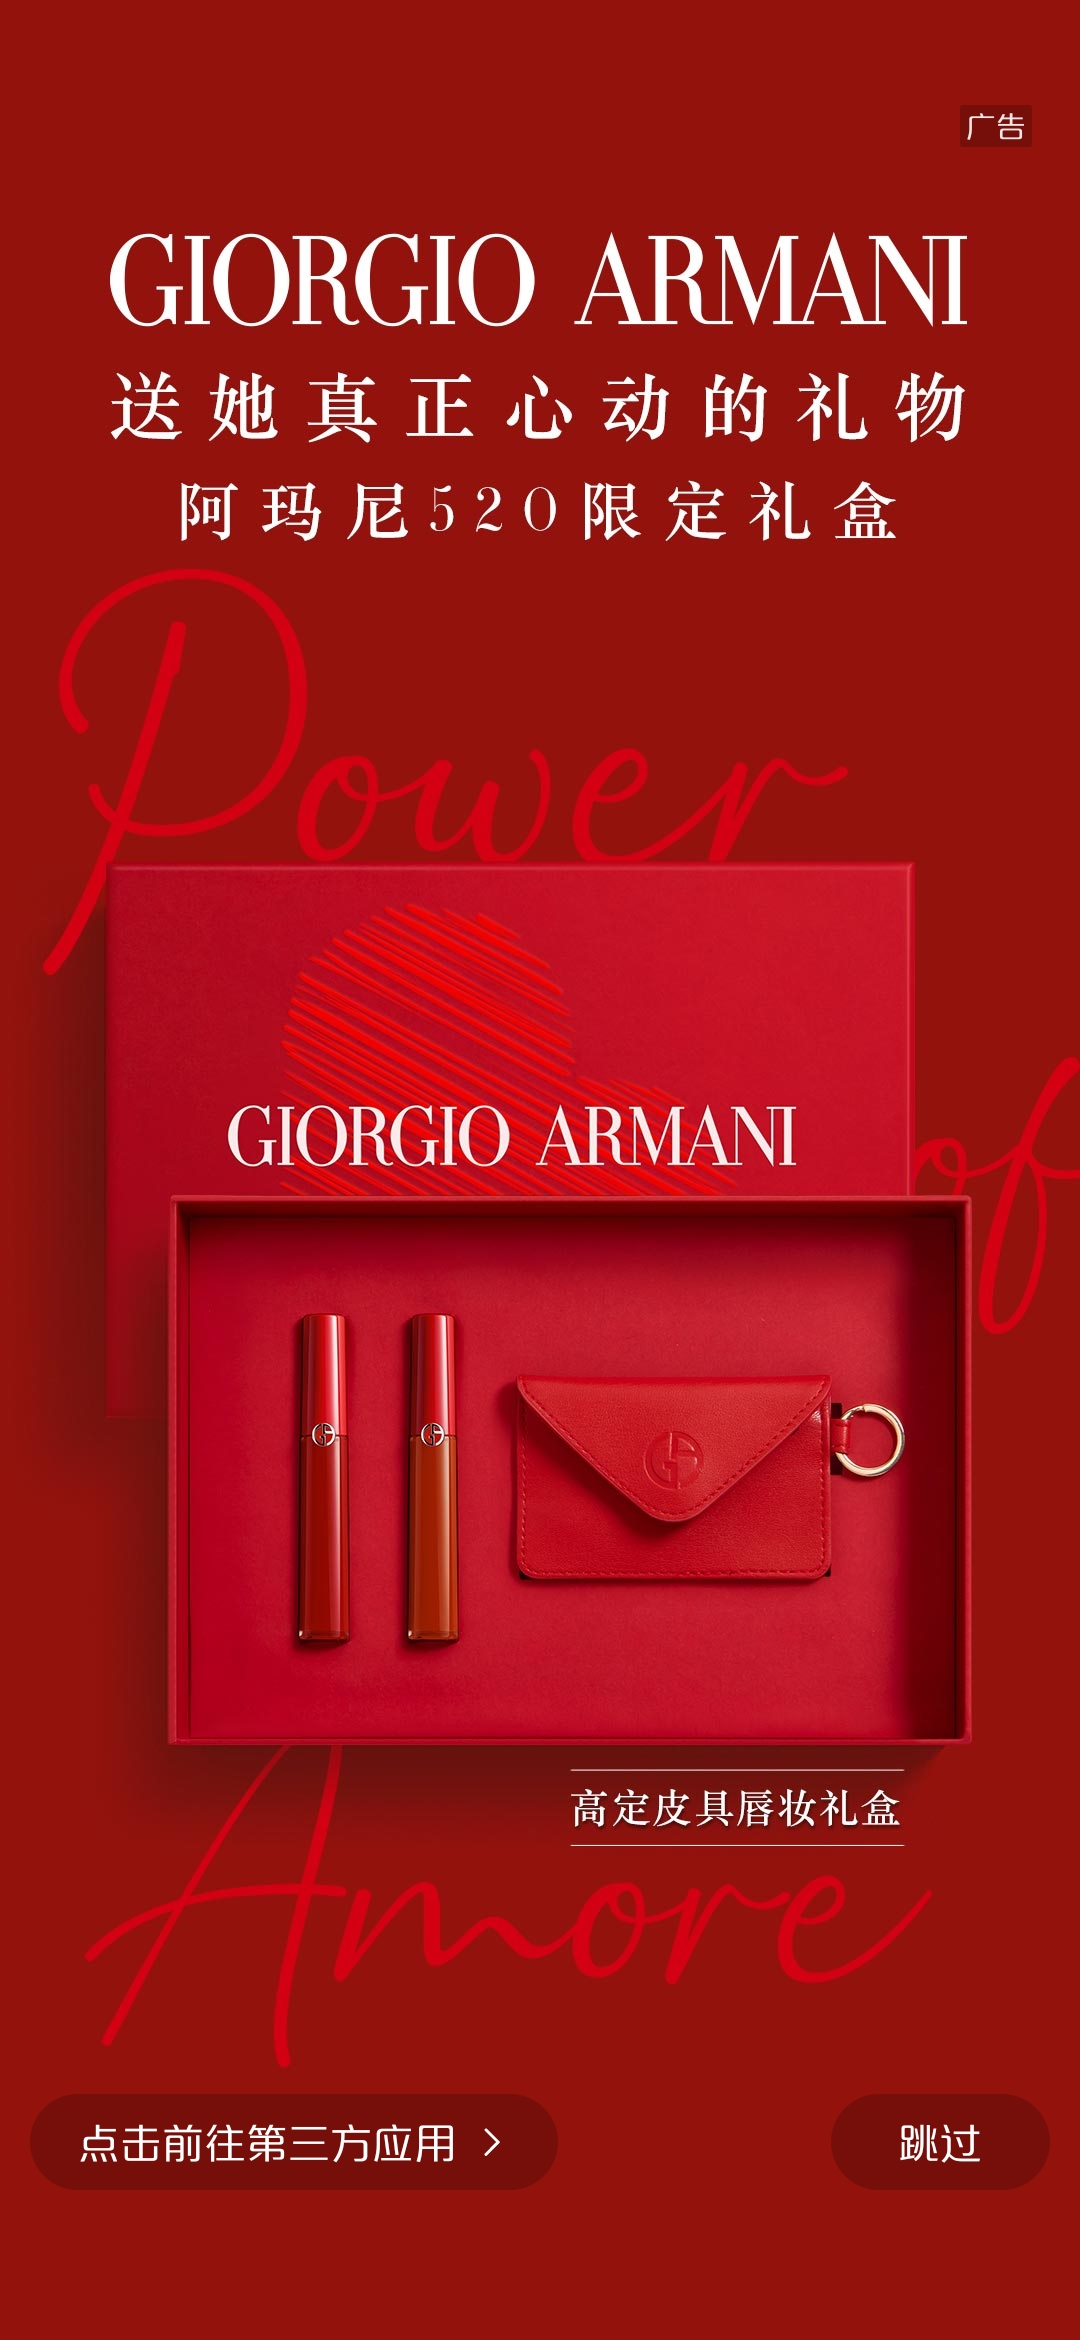skip: (864, 2107, 1026, 2194)
